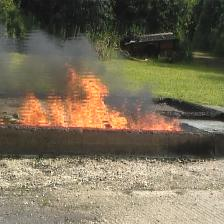fire: (18, 57, 184, 131)
